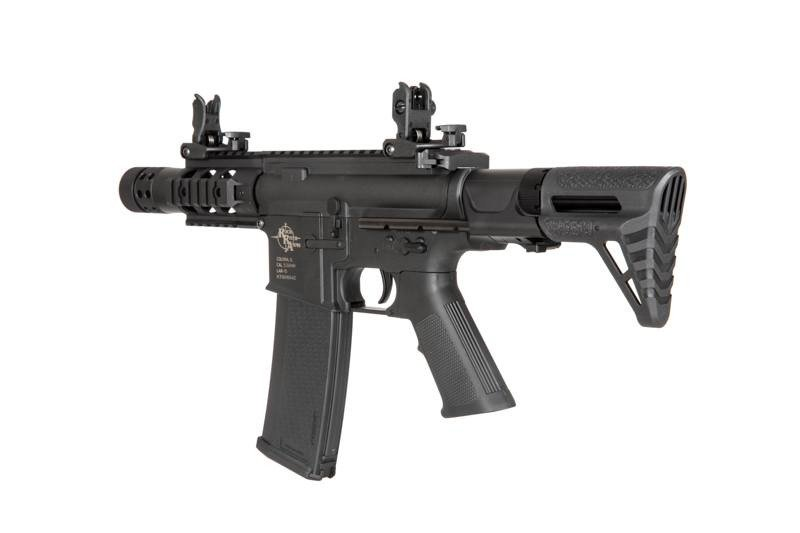m4_carbine: (257, 143, 519, 491)
